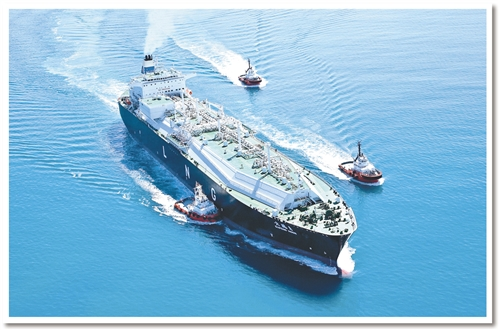Cargoship: (121, 49, 363, 272)
otherboat: (170, 179, 224, 228), (333, 138, 384, 185), (234, 57, 265, 85)
